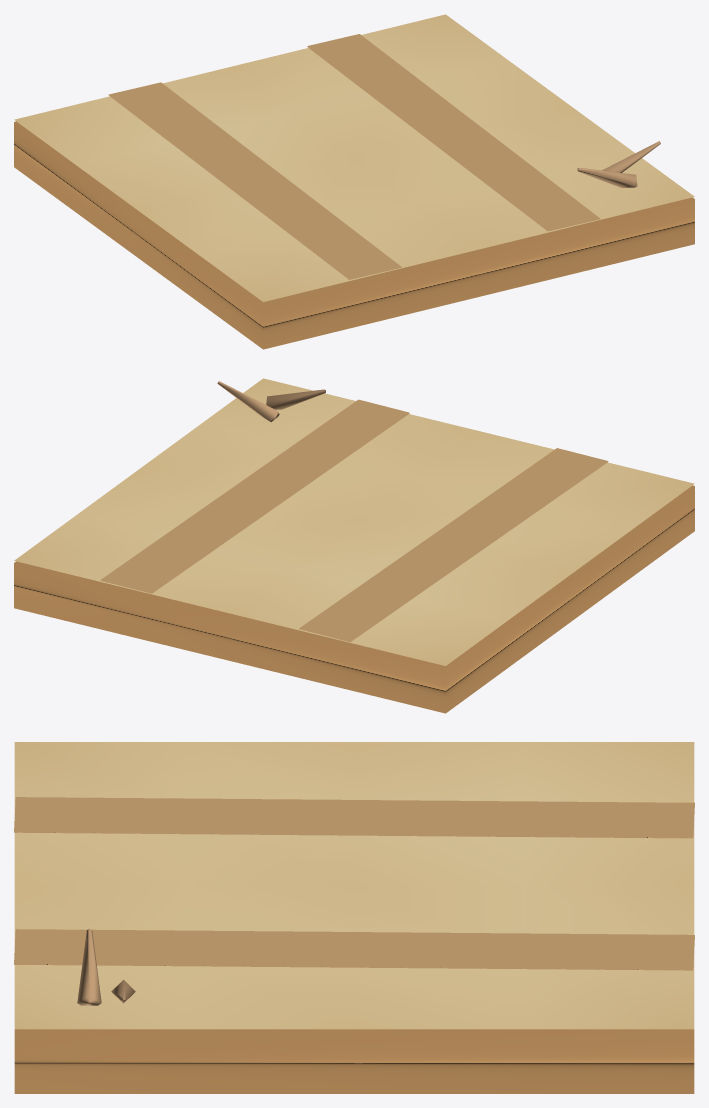
Rendered from tile_dust_b.glb.
3 views of the same model, one above another, from view 1: azimuth 30°, elevation 25°; view 2: azimuth 150°, elevation 25°; view 3: azimuth 270°, elevation 25° (orthographic). The views are drawn at different scales.
Parts seen in each view (by area): view 1: Tile.001; view 2: Tile.001; view 3: Tile.001.
Boxes of the visible parts, x1,y1,x2,y2 form: Tile.001: (14, 14, 694, 349); Tile.001: (14, 378, 694, 713); Tile.001: (14, 742, 694, 1093).
Bounding box in the file's own units: 1.01 × 0.1728 × 1.
